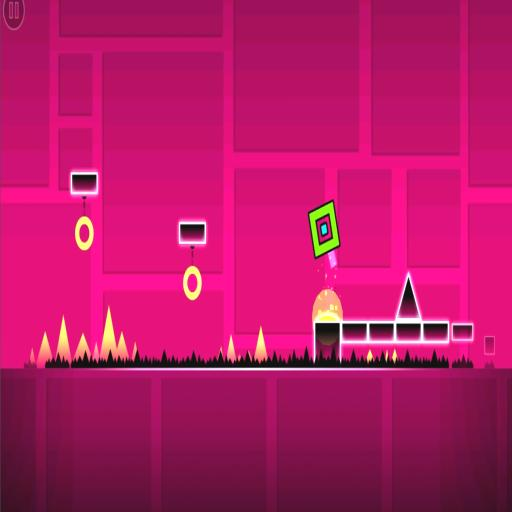block: (312, 313, 450, 370), (174, 215, 209, 250), (67, 166, 99, 204), (451, 316, 475, 344), (480, 333, 497, 360)
player: (308, 200, 340, 265)
spike: (397, 275, 421, 319), (100, 307, 116, 360), (55, 316, 70, 363), (36, 333, 51, 368), (73, 334, 89, 360), (254, 327, 266, 361), (117, 332, 127, 360), (226, 336, 235, 360), (92, 344, 98, 361), (131, 343, 136, 360), (29, 349, 34, 364), (366, 350, 372, 362), (391, 349, 396, 363), (218, 347, 222, 357), (246, 351, 250, 359), (385, 351, 387, 361), (237, 355, 240, 361)
